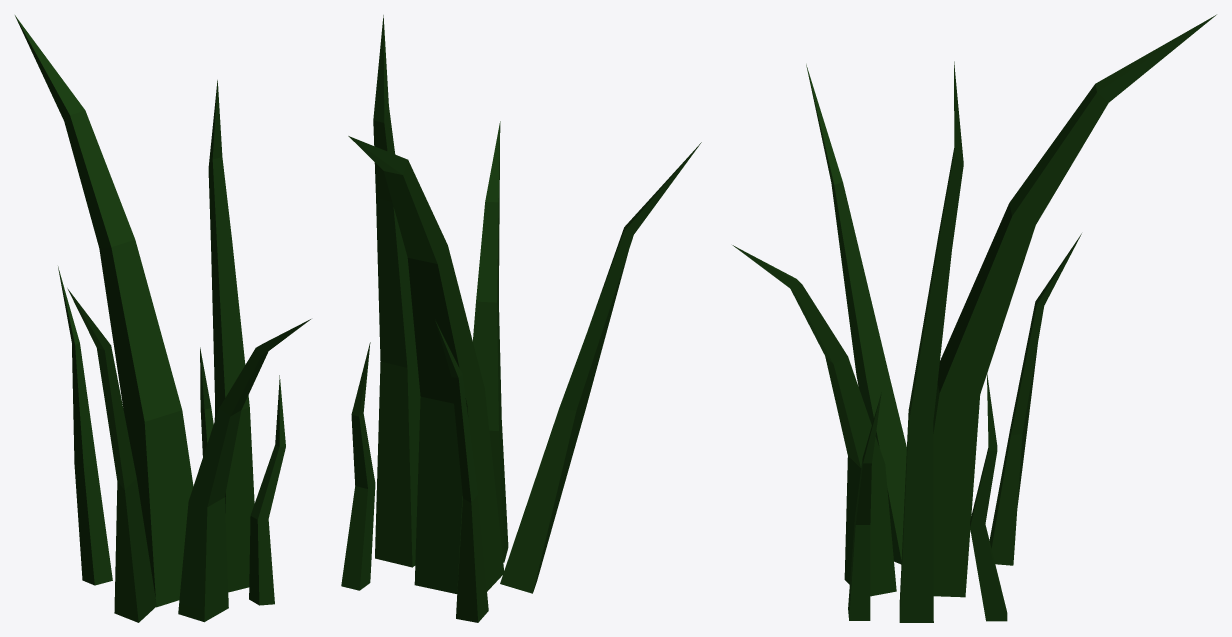
Rendered from grass4.obj.
3 renders of one model, left to right at view 1: azimuth 30°, elevation 25°; view 2: azimuth 150°, elevation 25°; view 3: azimuth 270°, elevation 25°, orthographic. The views are drawn at different scales.
Parts seen in each view (by area): view 1: Grass2.001_Cube.049; view 2: Grass2.001_Cube.049; view 3: Grass2.001_Cube.049.
Part boxes in pixels (x1,y1,x2,y2): Grass2.001_Cube.049: [15, 15, 310, 622]; Grass2.001_Cube.049: [341, 15, 701, 622]; Grass2.001_Cube.049: [732, 14, 1216, 622].
Size of the model in its own units: 0.7622 by 1.47 by 1.16.
